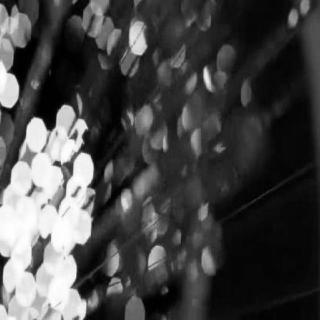other: (1, 13, 153, 316)
